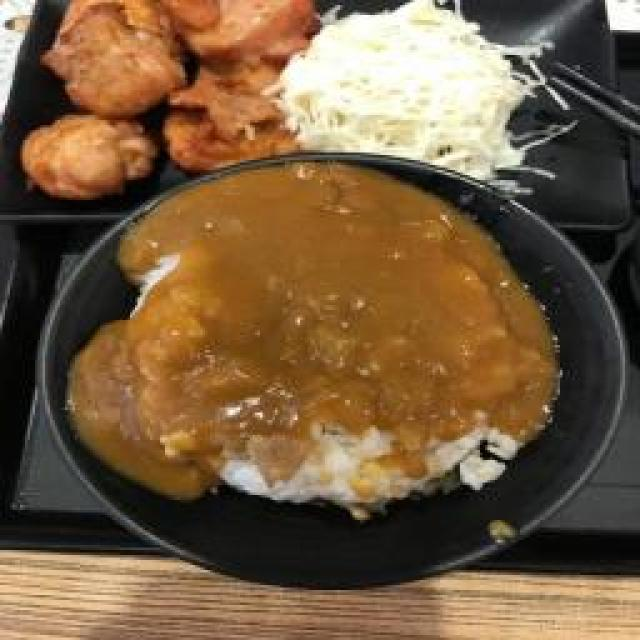Wet Waste: (65, 160, 563, 510)
